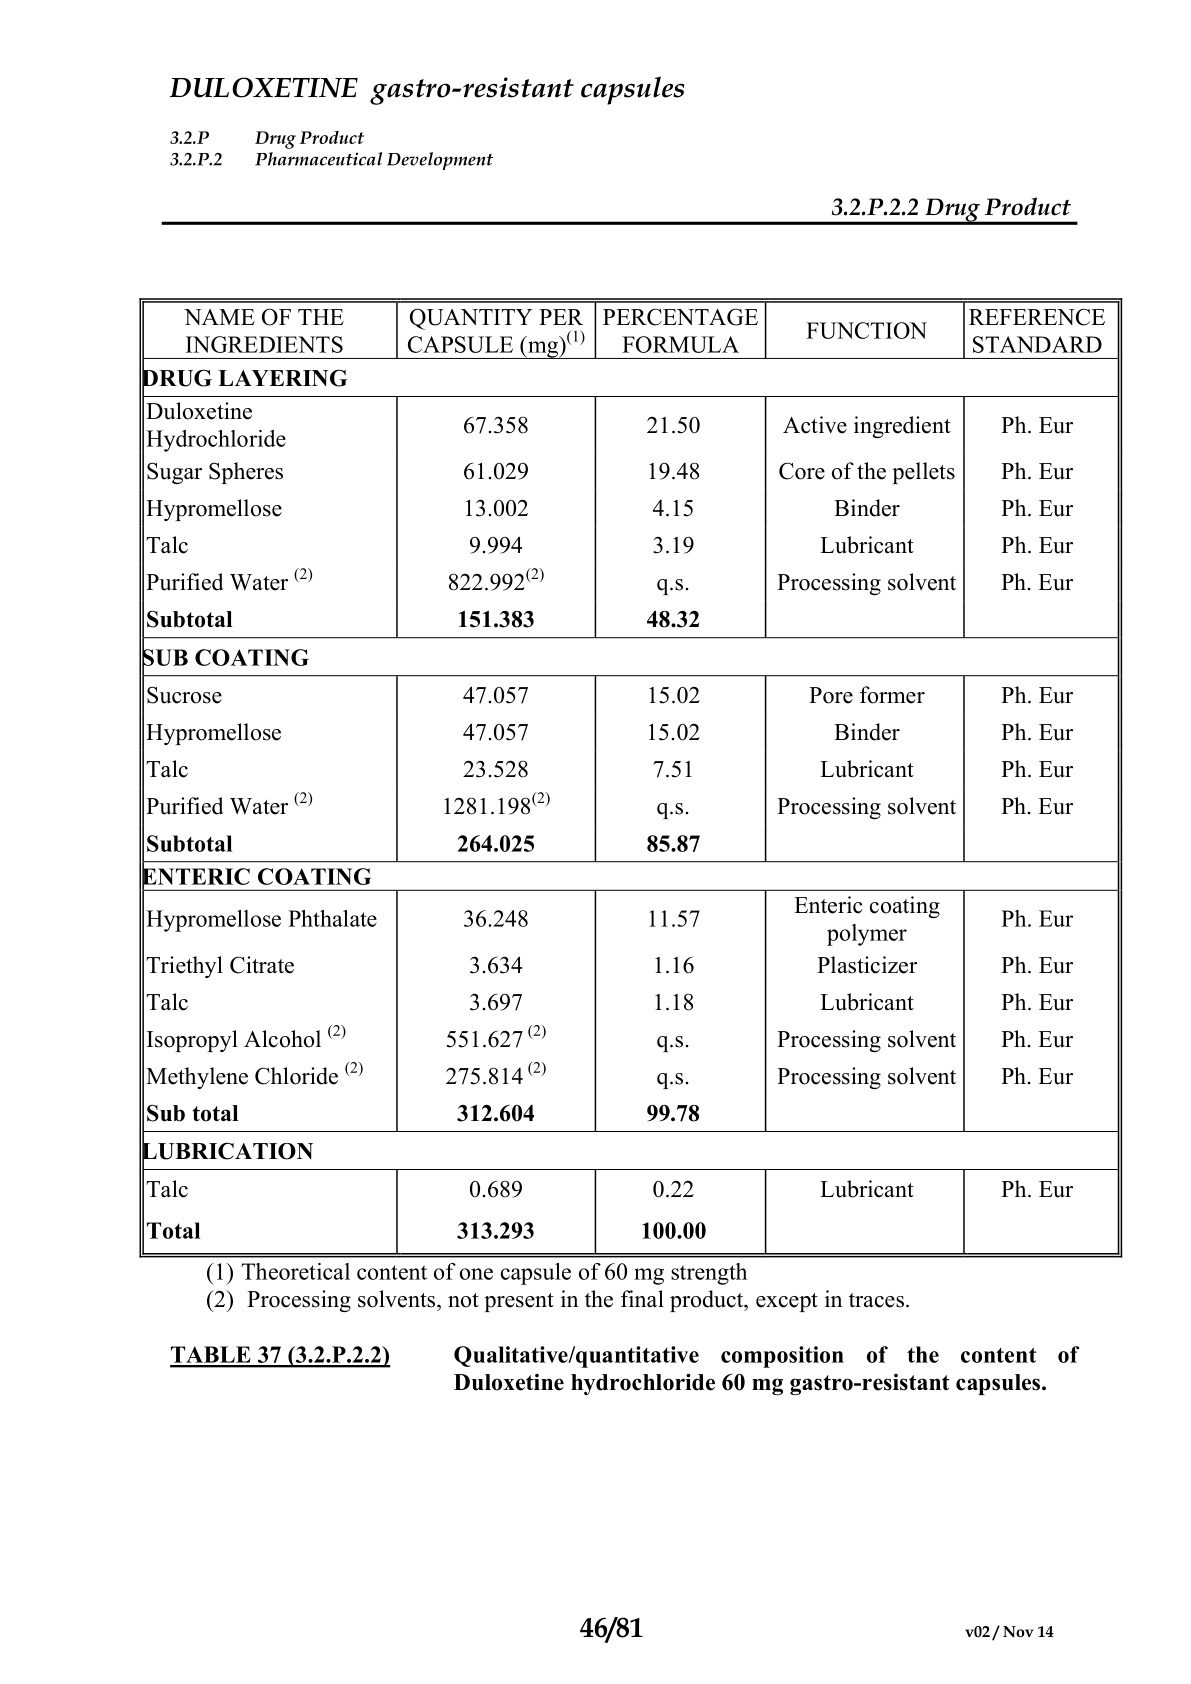merged_cells: (137, 296, 1123, 1258)
